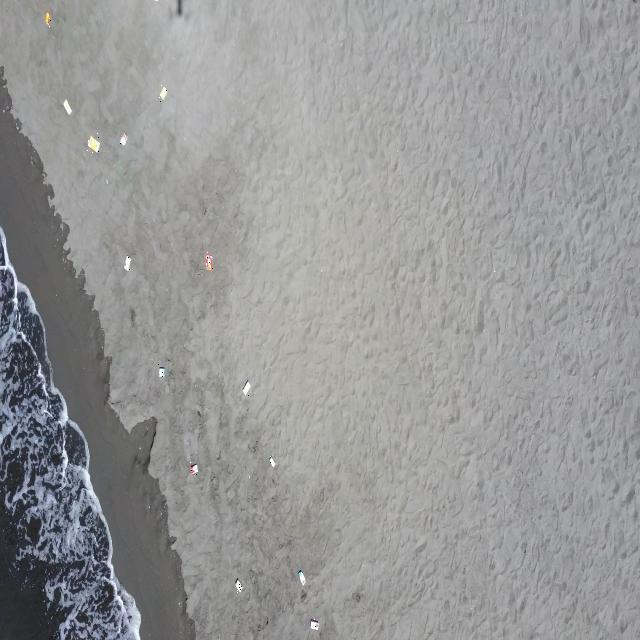Garbage: (88, 136, 99, 151), (204, 253, 212, 270), (296, 569, 304, 584), (159, 85, 167, 100), (44, 11, 51, 27), (64, 99, 71, 114), (241, 380, 247, 395), (123, 255, 129, 270), (188, 464, 196, 475), (120, 132, 127, 144), (268, 455, 275, 467), (235, 579, 241, 592), (310, 619, 318, 628), (158, 364, 163, 376)
